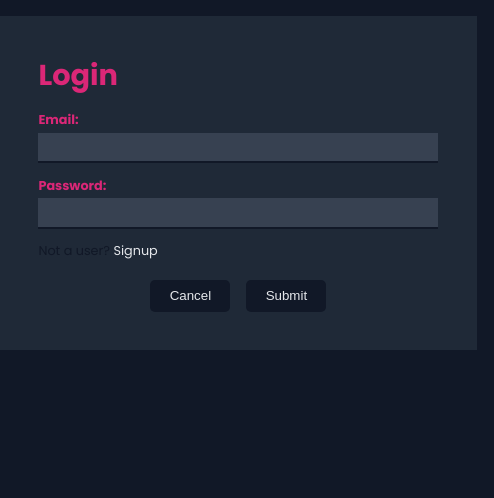
Test: LoginForm › should render signup form
Step 1. Click the text "Signup" → [136, 251], box [113,242,158,260]
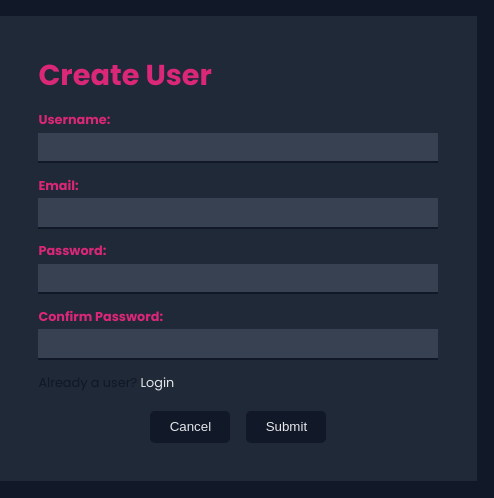
Check: the heading reads "Create User", box [38,55,212,95]
Check: the password field labelled "Confirm Password:" is shown, box [38,329,438,360]
Check: the text "Login" is shown, box [141,374,174,391]
